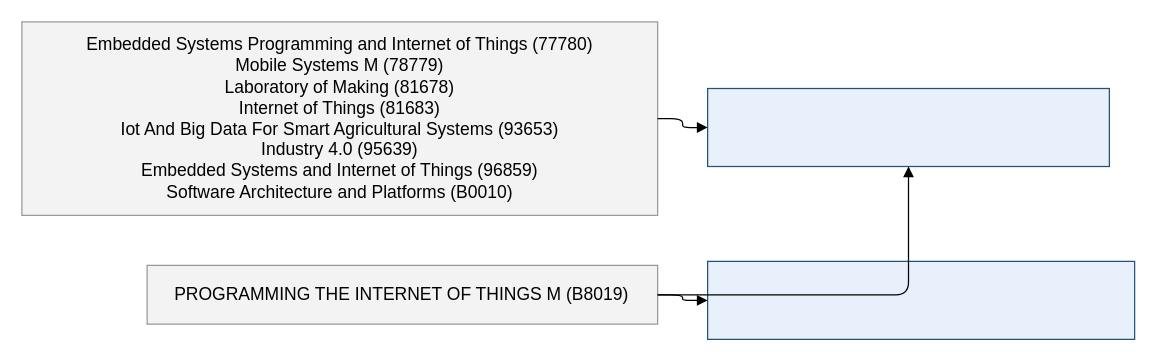
The diagram is 1158 pixels wide and 361 high, and some of its shapes have lost their labels. The shapes that lost their labels are listed below. From the top down, each one's centre as x and y in pixels, then its label:
At (x=907, y=126): "Advanced IoT Application Integration 3 ECTS".
At (x=920, y=299): "IoT Application Engineering Foundations 3 ECTS".
